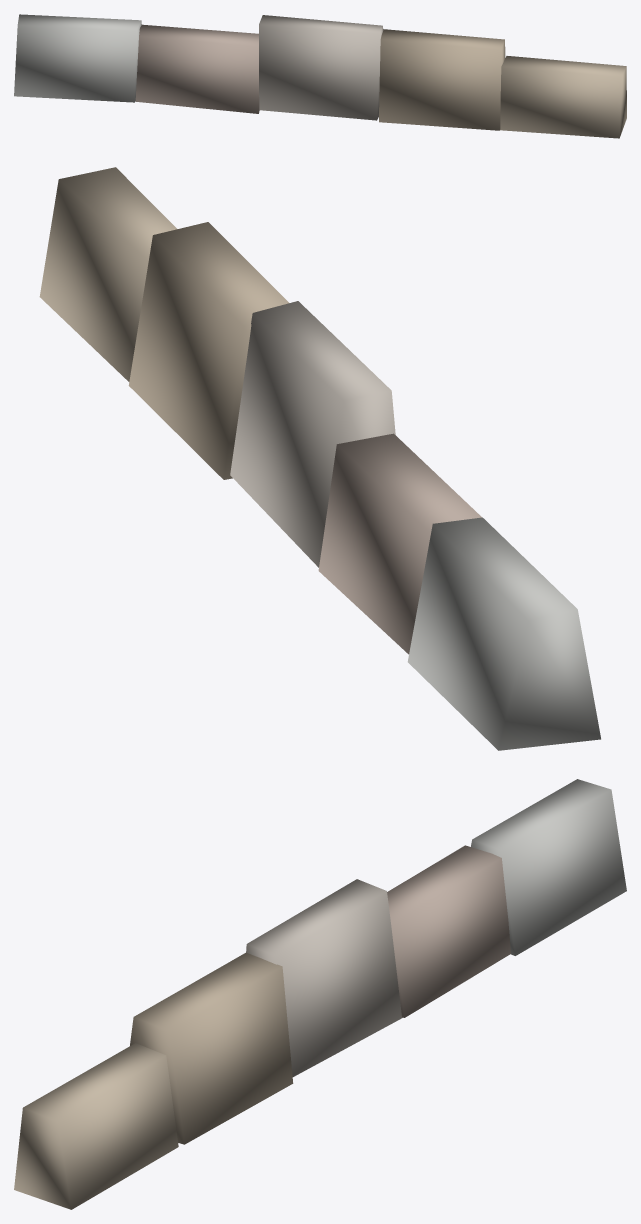
The model's file is farm_22_18_far.glb.
The picture shows the model from 3 angles, top to bottom: view 1: azimuth 30°, elevation 25°; view 2: azimuth 150°, elevation 25°; view 3: azimuth 270°, elevation 25°; orthographic projection. The views are drawn at different scales.
Visible parts, largest first — view 1: geometry_0; view 2: geometry_0; view 3: geometry_0.
Part boxes in pixels (<box>): geometry_0: <box>14,14,626,138</box>; geometry_0: <box>39,167,600,750</box>; geometry_0: <box>14,779,626,1209</box>.
Size of the model in its own units: 6.76 by 1.3 by 5.4.
